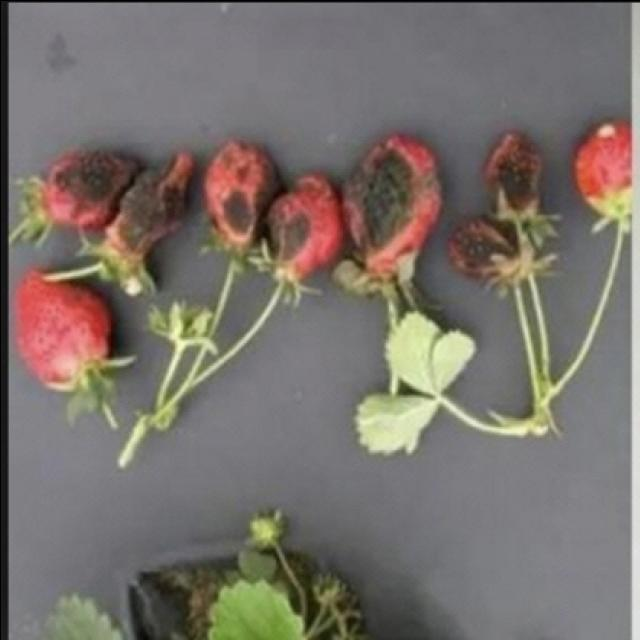Anthracnose Fruit Rot: (354, 157, 412, 223), (119, 180, 180, 236), (59, 157, 117, 195), (454, 224, 499, 261), (492, 153, 530, 191), (272, 216, 302, 252), (226, 193, 245, 224)
